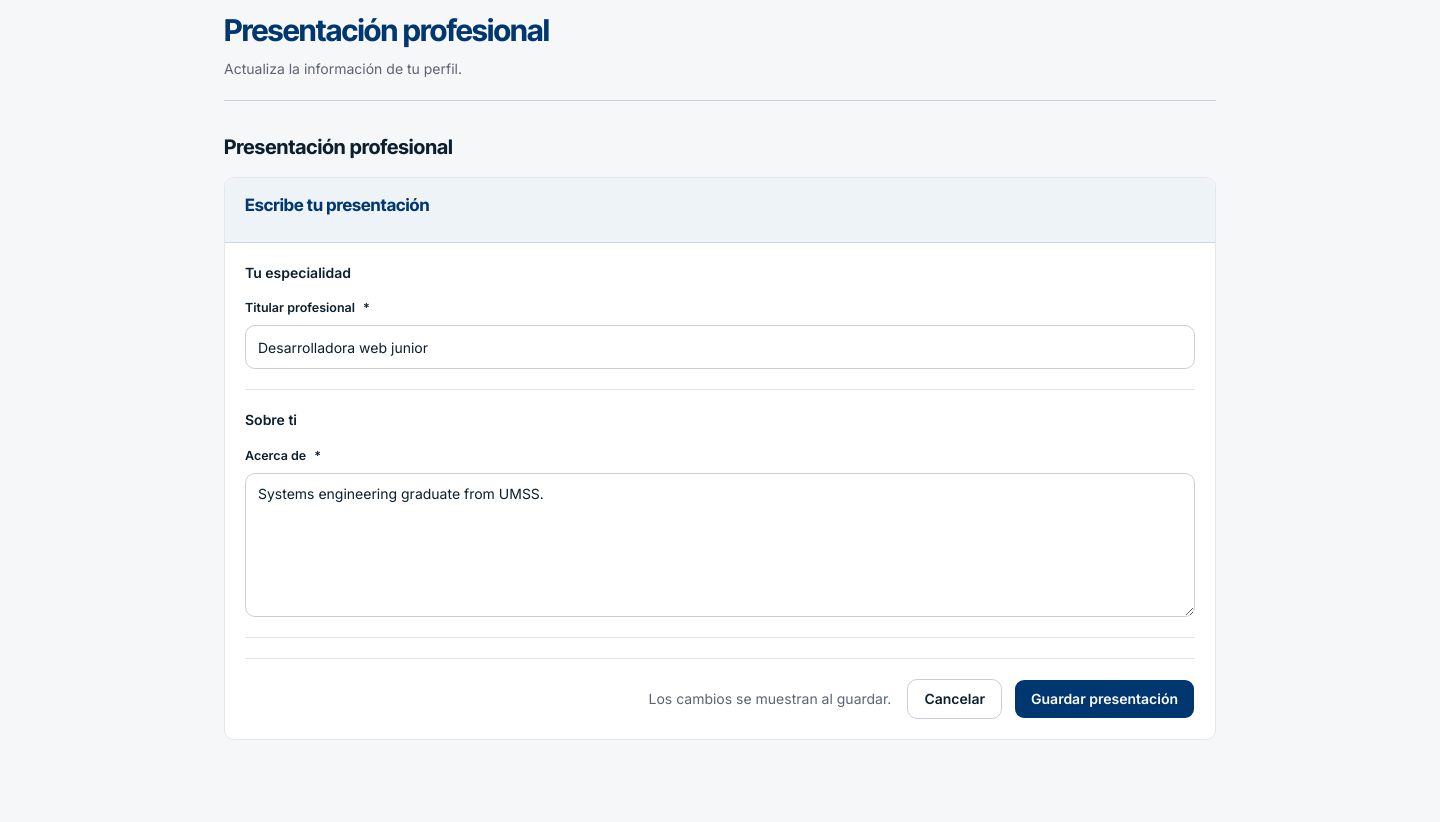
Scenario: PresentationView › restores the saved values when cancelling after saving
Click the button "Guardar presentación".
click(1104, 699)  # box [1014,679,1195,719]
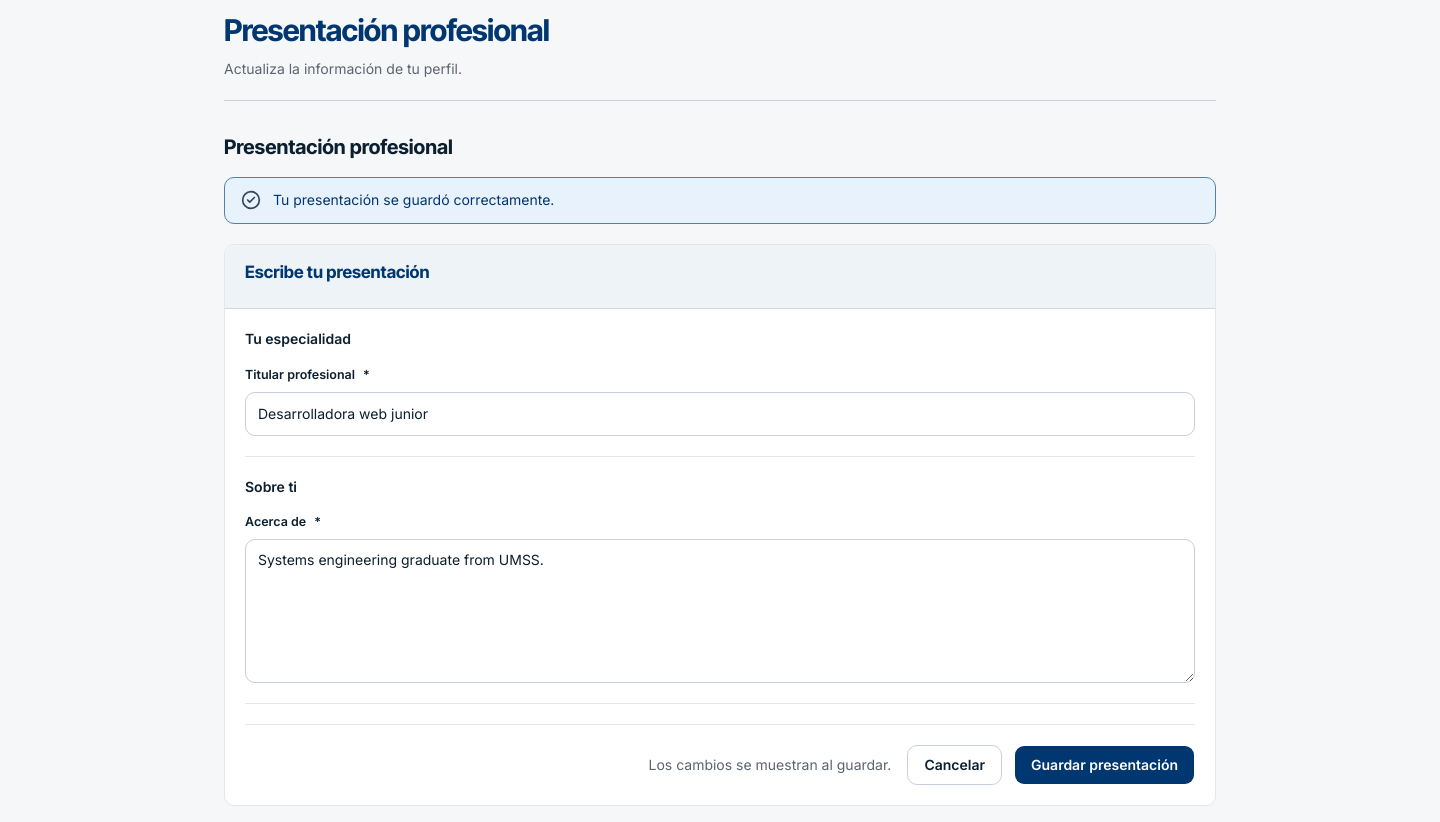
Expected: the text "Tu presentación se guardó correctamente." is shown, [273,190,554,211]
Type " changed" into the field labelled "Titular profesional *".
click(720, 414); type(" changed")  # box [245,392,1195,436]
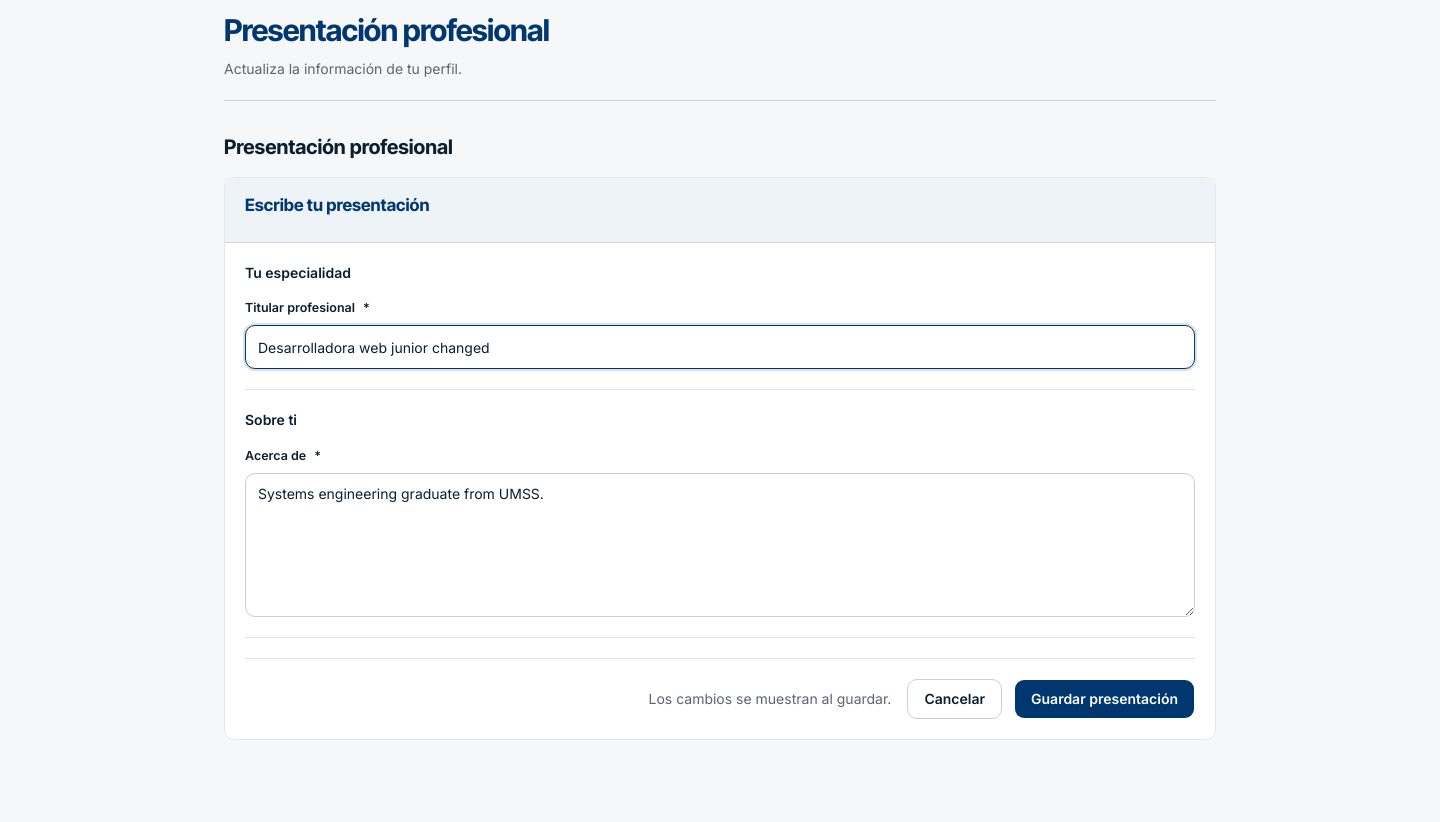
Click the button "Cancelar".
click(955, 699)  # box [907,679,1002,719]
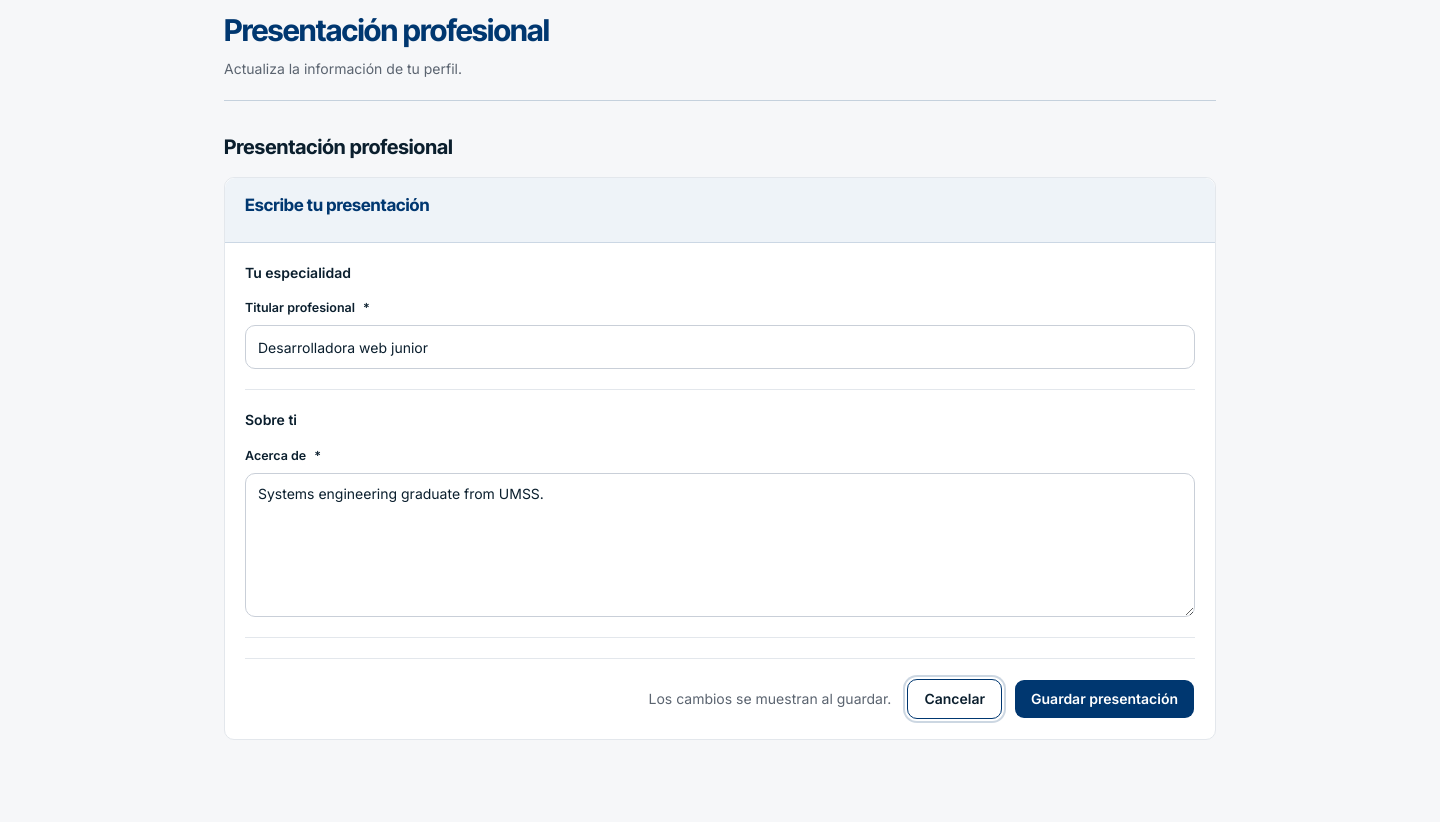
Expected: the field labelled "Titular profesional *" holds "Desarrolladora web junior", [245,326,1195,370]
